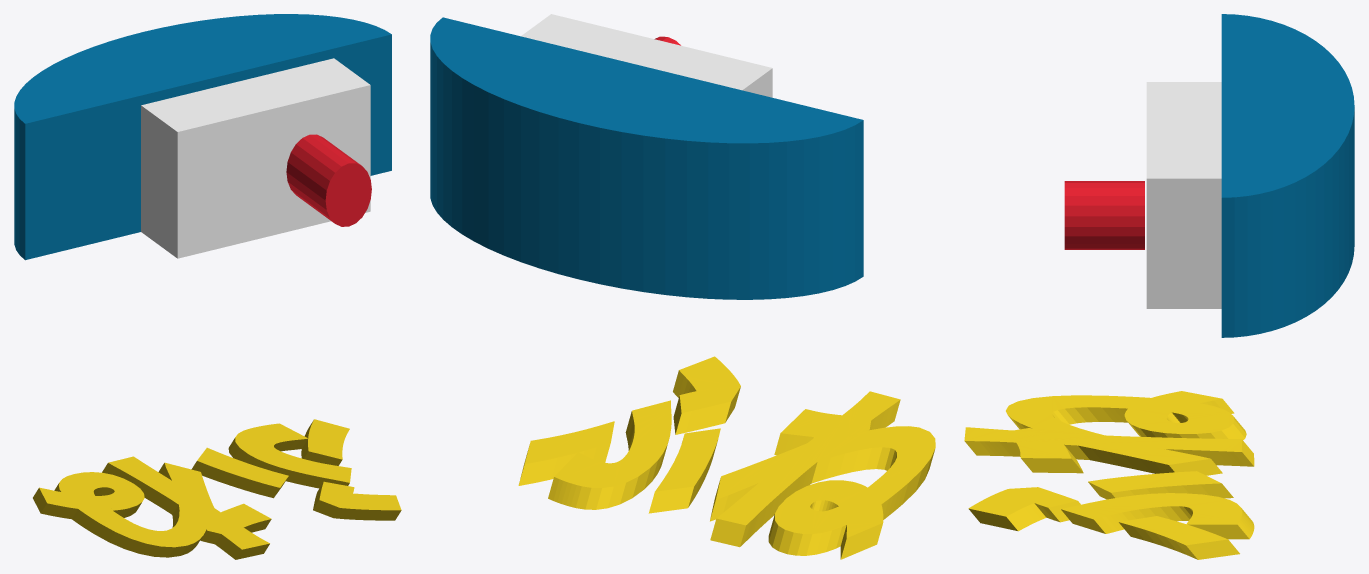
The model's file is tinker.obj.
3 renders of one model, left to right at view 1: azimuth 30°, elevation 25°; view 2: azimuth 150°, elevation 25°; view 3: azimuth 270°, elevation 25°, orthographic. The views are drawn at different scales.
Visible parts, largest first — view 1: group_0_30377, group_0_16448250, group_0_16768282, group_0_15277357; view 2: group_0_30377, group_0_16768282, group_0_16448250; view 3: group_0_30377, group_0_16768282, group_0_16448250, group_0_15277357.
Boxes of the visible parts, x1,y1,x2,y2 form: group_0_30377: [14, 14, 391, 260]; group_0_16448250: [141, 58, 370, 258]; group_0_16768282: [33, 419, 401, 559]; group_0_15277357: [286, 134, 371, 226]; group_0_30377: [430, 17, 863, 299]; group_0_16768282: [518, 356, 935, 559]; group_0_16448250: [521, 14, 772, 97]; group_0_30377: [1221, 14, 1354, 337]; group_0_16768282: [964, 391, 1254, 559]; group_0_16448250: [1146, 82, 1221, 308]; group_0_15277357: [1064, 181, 1144, 249].
Size of the model in its own units: 30 by 30 by 26.91.
